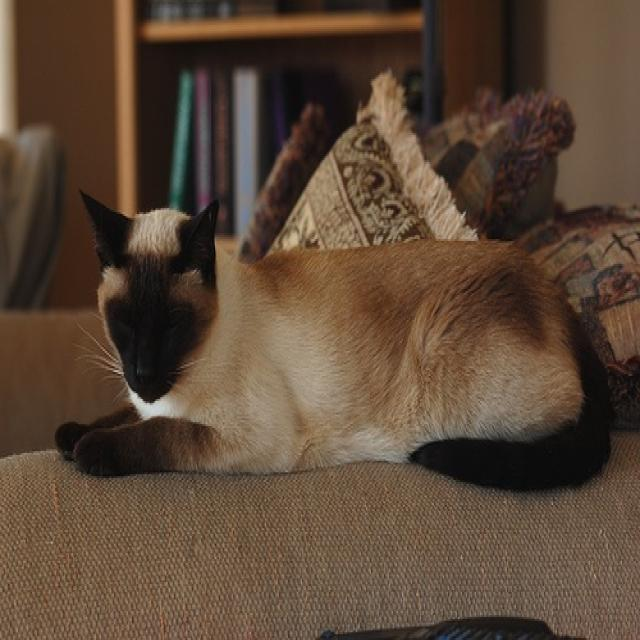cat: (54, 187, 614, 493)
